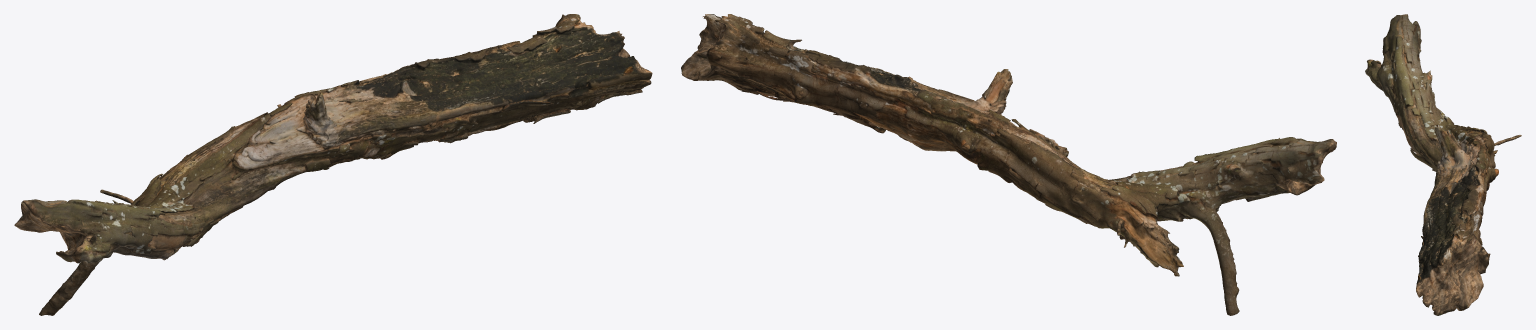
The model's file is dead_tree_trunk_02.gltf.
3 views of the same model, side by side, from view 1: azimuth 30°, elevation 25°; view 2: azimuth 150°, elevation 25°; view 3: azimuth 270°, elevation 25° (orthographic). The views are drawn at different scales.
Visible parts, largest first — view 1: dead_tree_trunk_02; view 2: dead_tree_trunk_02; view 3: dead_tree_trunk_02.
Boxes of the visible parts, x1,y1,x2,y2 form: dead_tree_trunk_02: (14,14,652,315); dead_tree_trunk_02: (681,14,1336,315); dead_tree_trunk_02: (1365,14,1521,315).
Size of the model in its own units: 4.05 by 1.06 by 1.06.
1 material, 1 textured.
